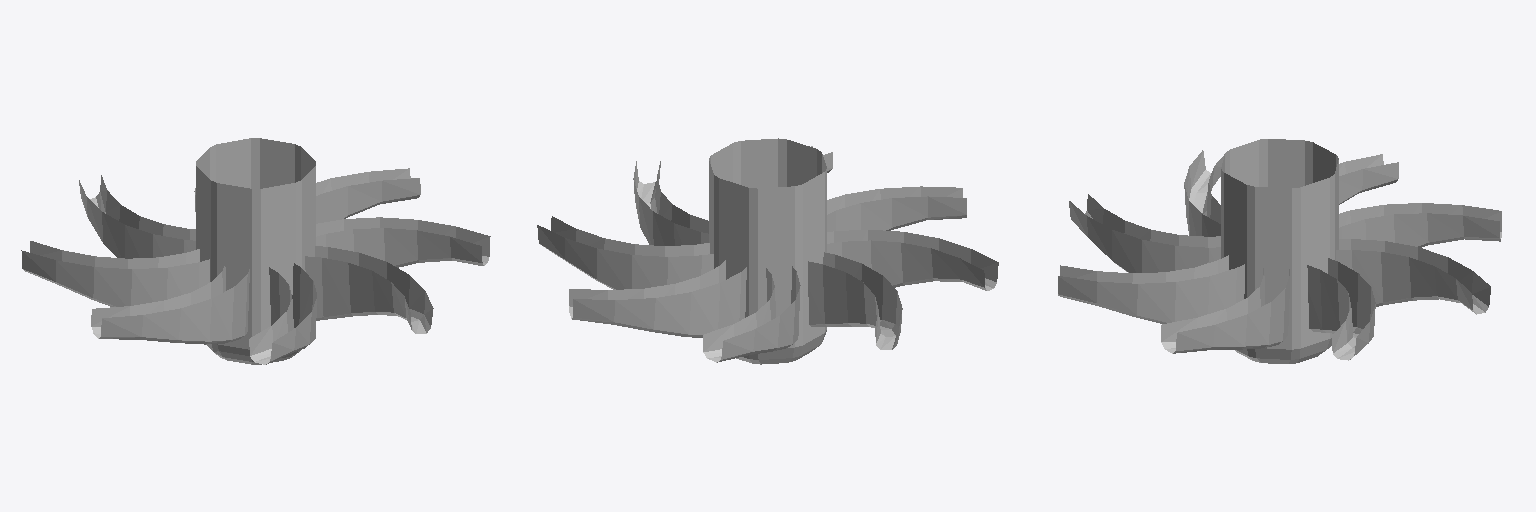
The model's file is FanHelix.obj.
3 views of the same model, side by side, from view 1: azimuth 30°, elevation 25°; view 2: azimuth 150°, elevation 25°; view 3: azimuth 270°, elevation 25° (orthographic).
Visible parts, largest first — view 1: Cylinder_Cylinder.002; view 2: Cylinder_Cylinder.002; view 3: Cylinder_Cylinder.002.
Boxes of the visible parts, <box> form: Cylinder_Cylinder.002: <box>21,138,490,364</box>; Cylinder_Cylinder.002: <box>537,138,998,364</box>; Cylinder_Cylinder.002: <box>1058,139,1501,363</box>.
Size of the model in its own units: 1.17 by 0.5362 by 1.17.